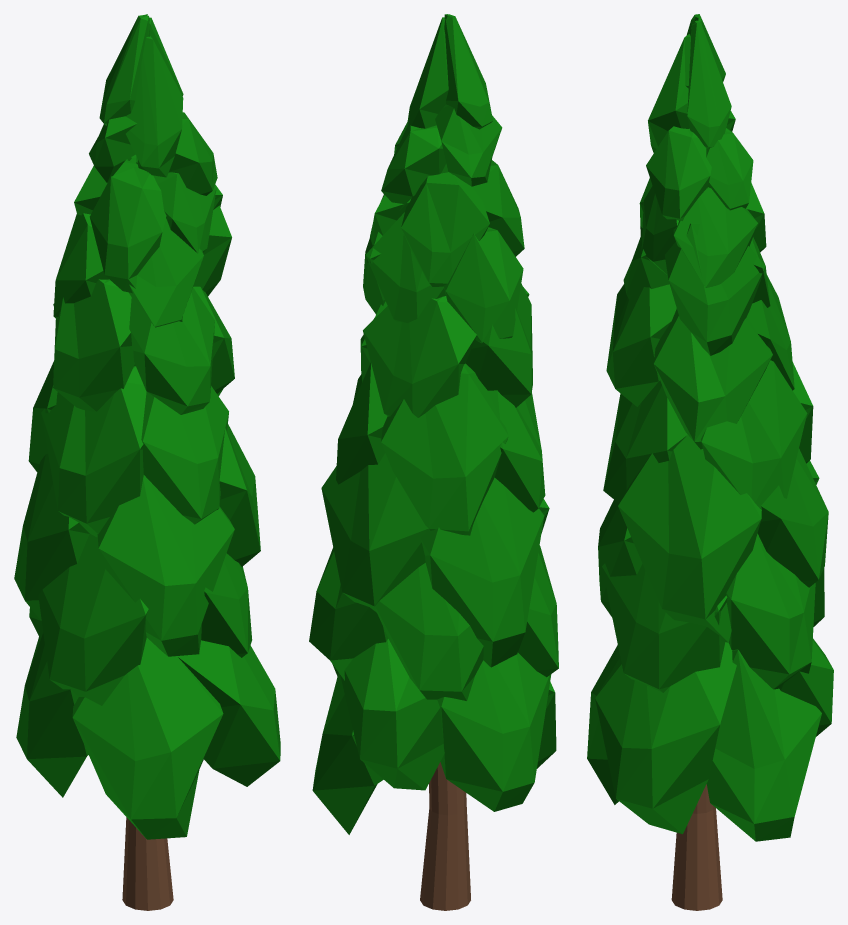
Rendered from SMFrontTree.glb.
3 renders of one model, left to right at view 1: azimuth 30°, elevation 25°; view 2: azimuth 150°, elevation 25°; view 3: azimuth 270°, elevation 25°, orthographic.
Visible parts, largest first — view 1: Tall_tree; view 2: Tall_tree; view 3: Tall_tree.
Boxes of the visible parts, <box> form: Tall_tree: <box>14,14,280,910</box>; Tall_tree: <box>309,14,558,910</box>; Tall_tree: <box>587,14,833,910</box>.
Size of the model in its own units: 2.43 by 9.5 by 2.41.
